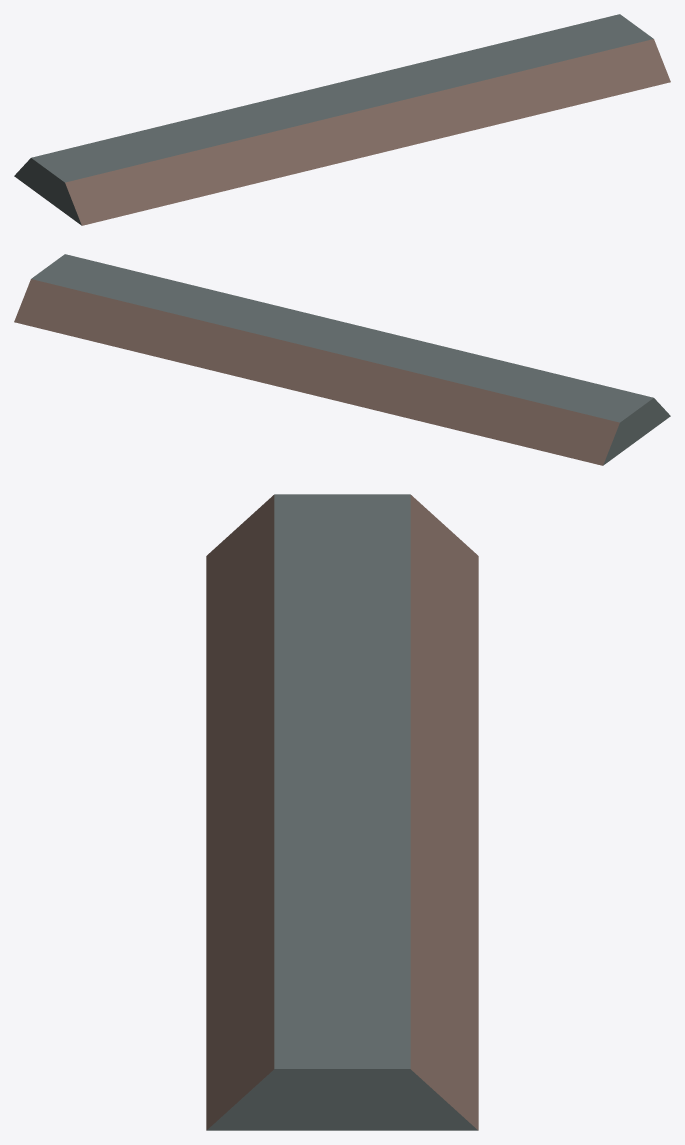
Rendered from Floortrim.fbx.
3 renders of one model, top to bottom at view 1: azimuth 30°, elevation 25°; view 2: azimuth 150°, elevation 25°; view 3: azimuth 270°, elevation 25°, orthographic. The views are drawn at different scales.
Visible parts, largest first — view 1: Mesh; view 2: Mesh; view 3: Mesh.
Boxes of the visible parts, x1,y1,x2,y2 form: Mesh: (14, 14, 670, 225); Mesh: (14, 254, 670, 465); Mesh: (206, 494, 478, 1130).
Bounding box in the file's own units: 100 × 5 × 20.
